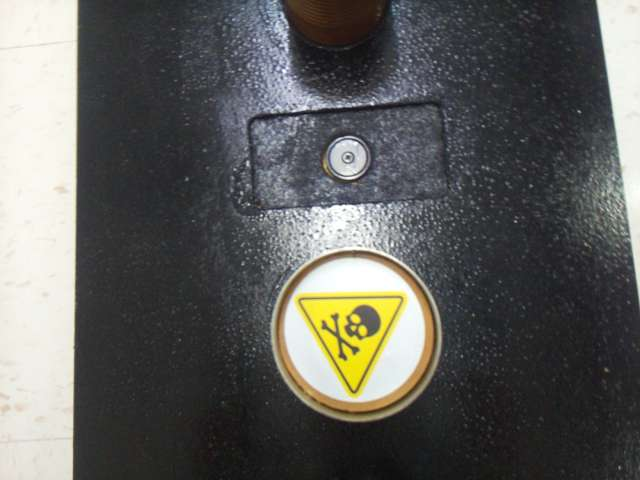toxic_fluid: (285, 258, 424, 402)
